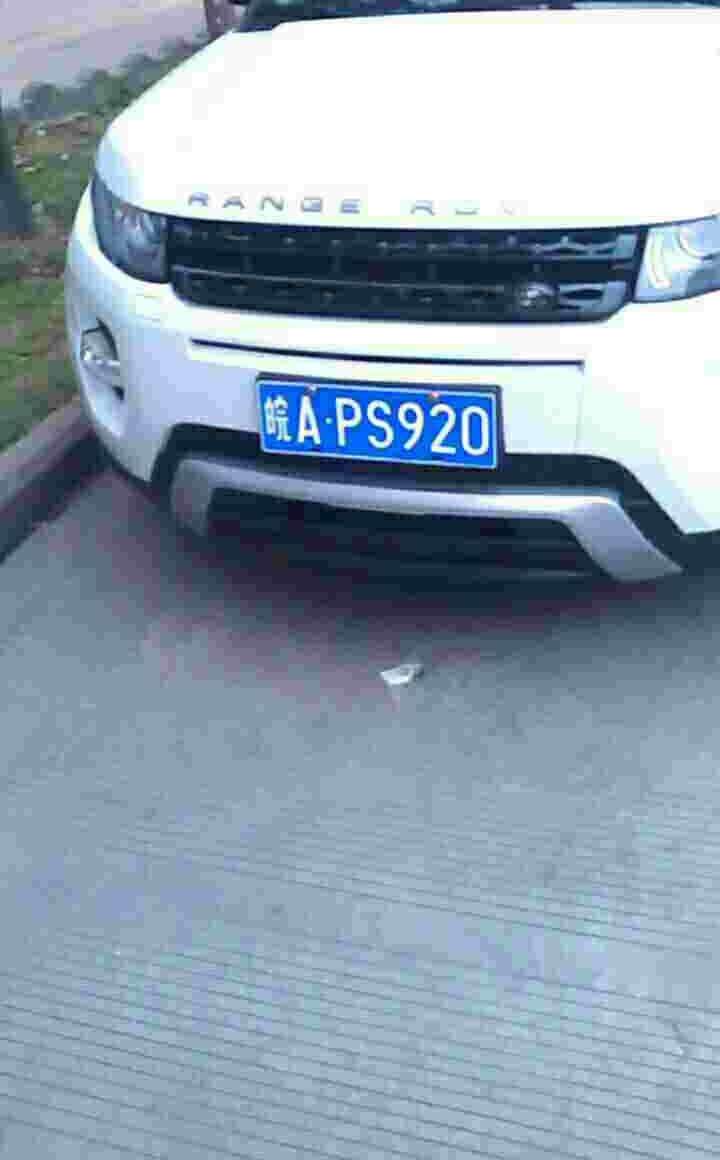license_plate: (260, 381, 492, 475)
